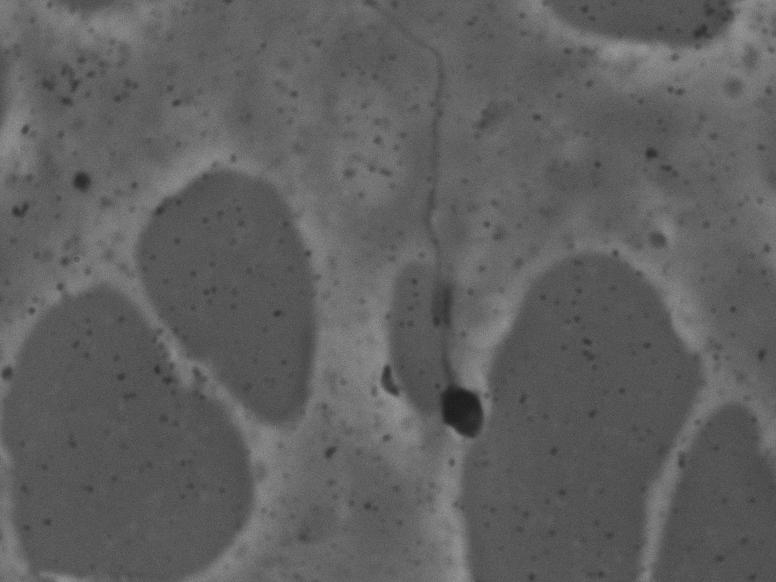Normal: (364, 10, 489, 452)
